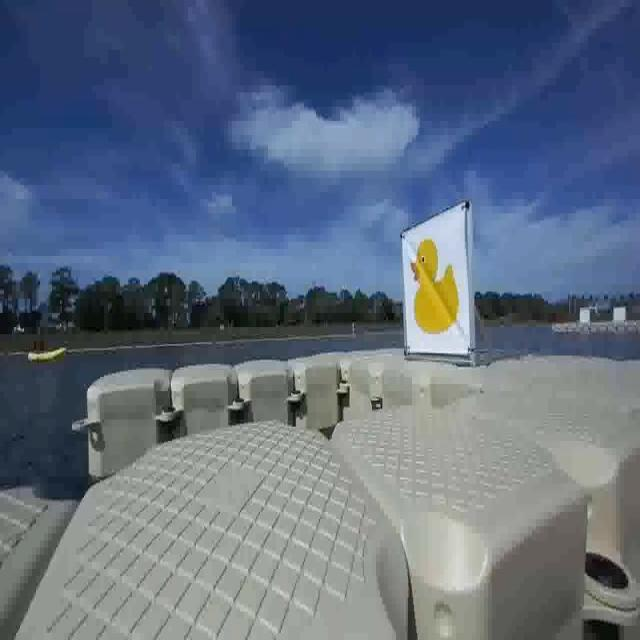yellow-duck: (411, 235, 461, 334)
